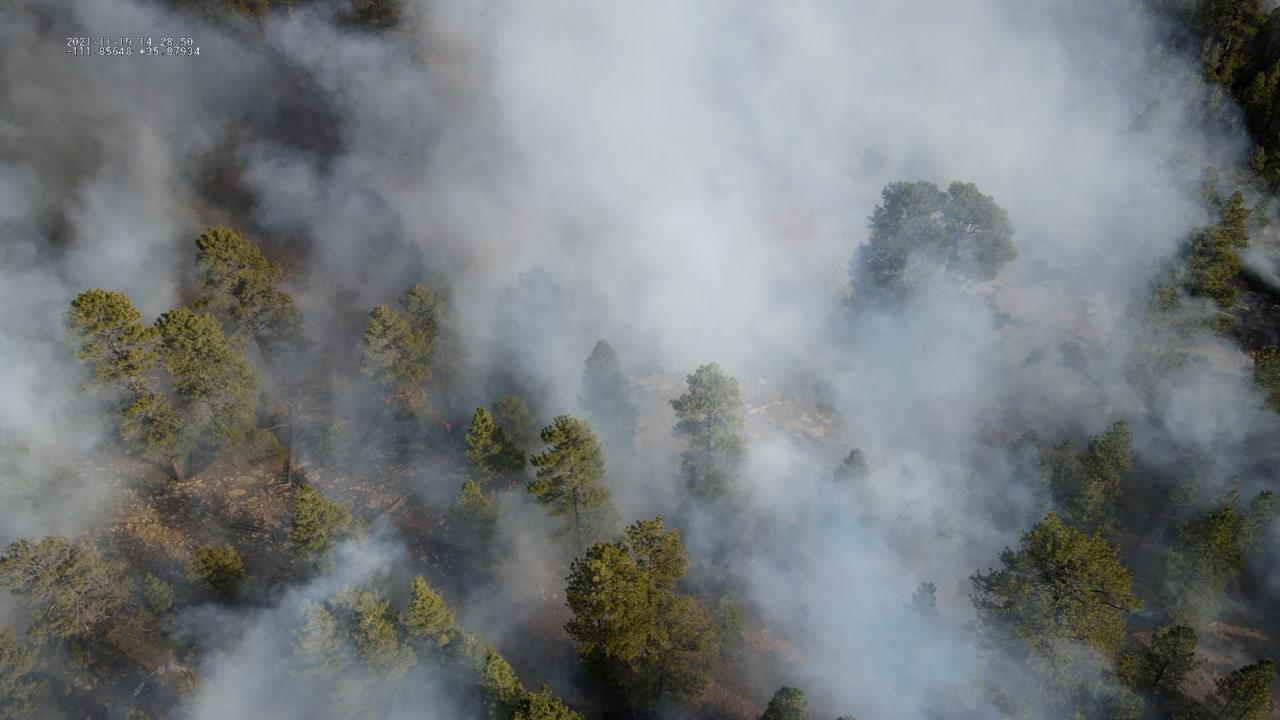fire: (440, 419, 453, 432), (381, 395, 394, 405), (510, 480, 517, 485)
smoke: (0, 0, 1280, 720)
